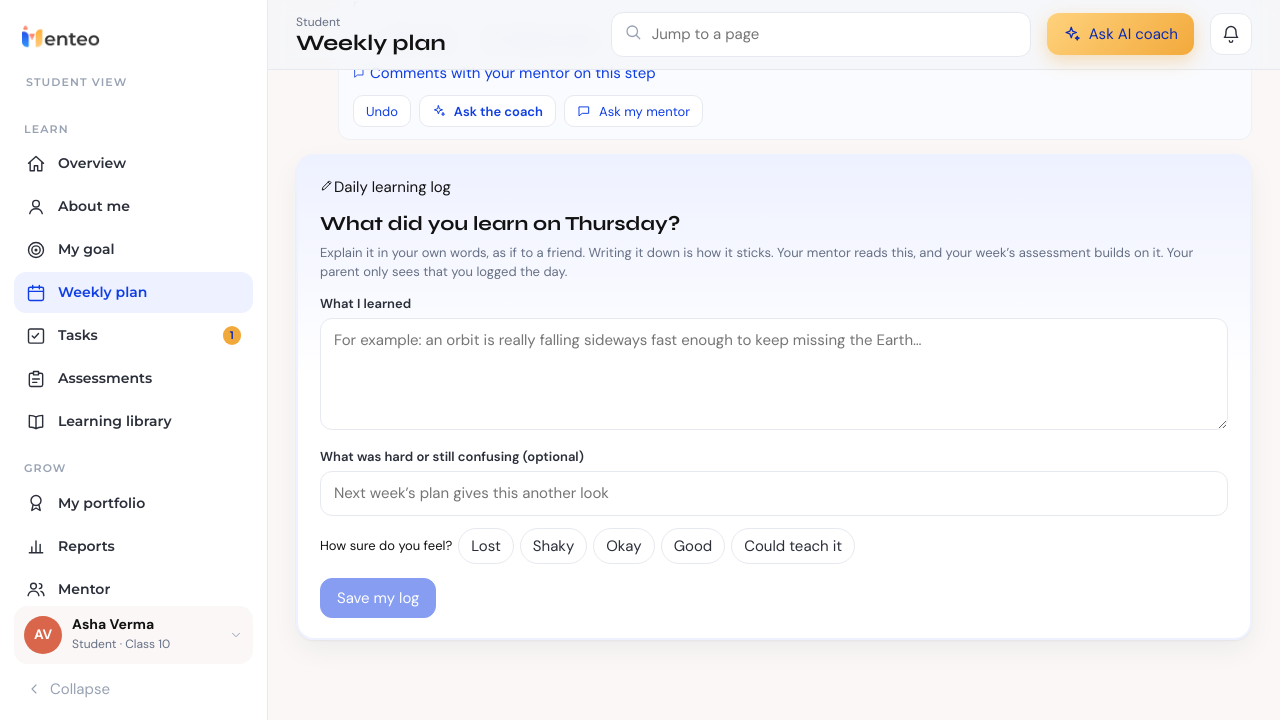
Test case: student: a day of the plan › logs what was learned that day; the day then shows it with an edit button
(page scrolled)
Type "Gravity pulls every mass towards every other mass." into the text box labelled "What I learned" at point(774, 374), box [320, 318, 1228, 430]
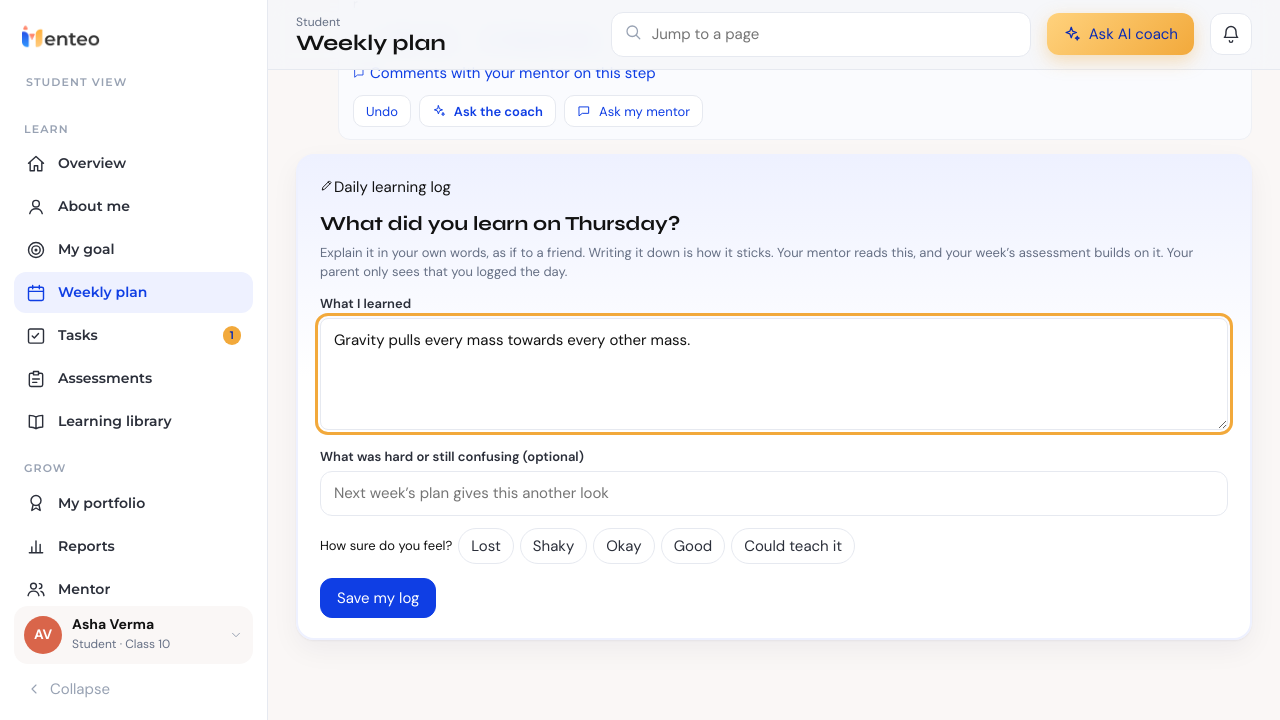
Type "The inverse square part" into the field labelled "What was hard or still confusing (optional)" at point(774, 494), box [320, 471, 1228, 516]
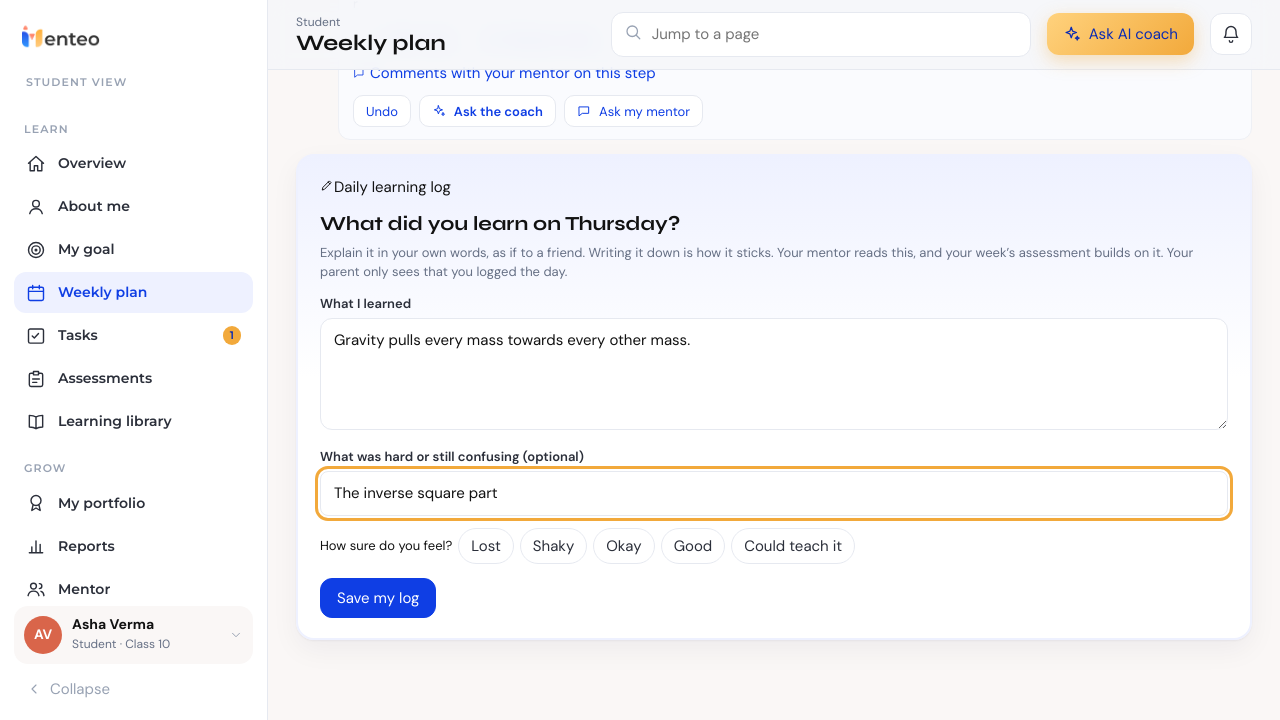
Click the button "Good" at point(693, 546), box [661, 528, 725, 564]
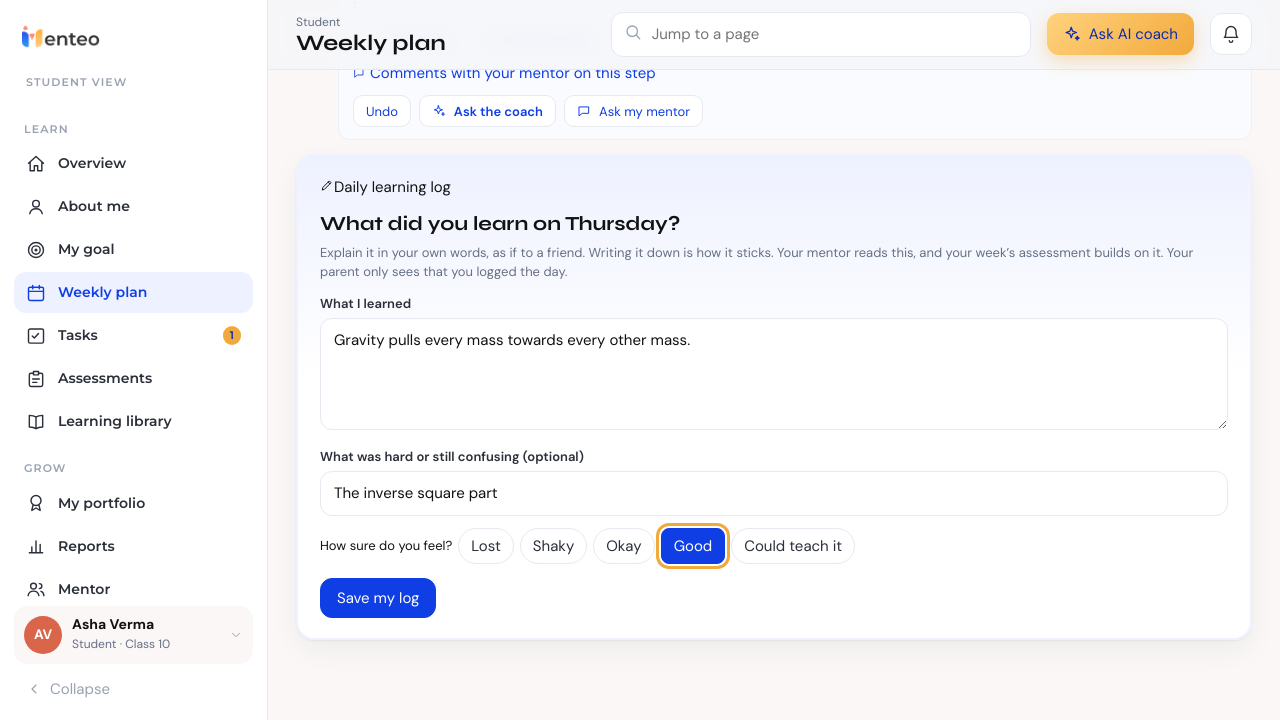
Click the button "Save my log" at point(378, 598), box [320, 578, 436, 618]
(page scrolled)
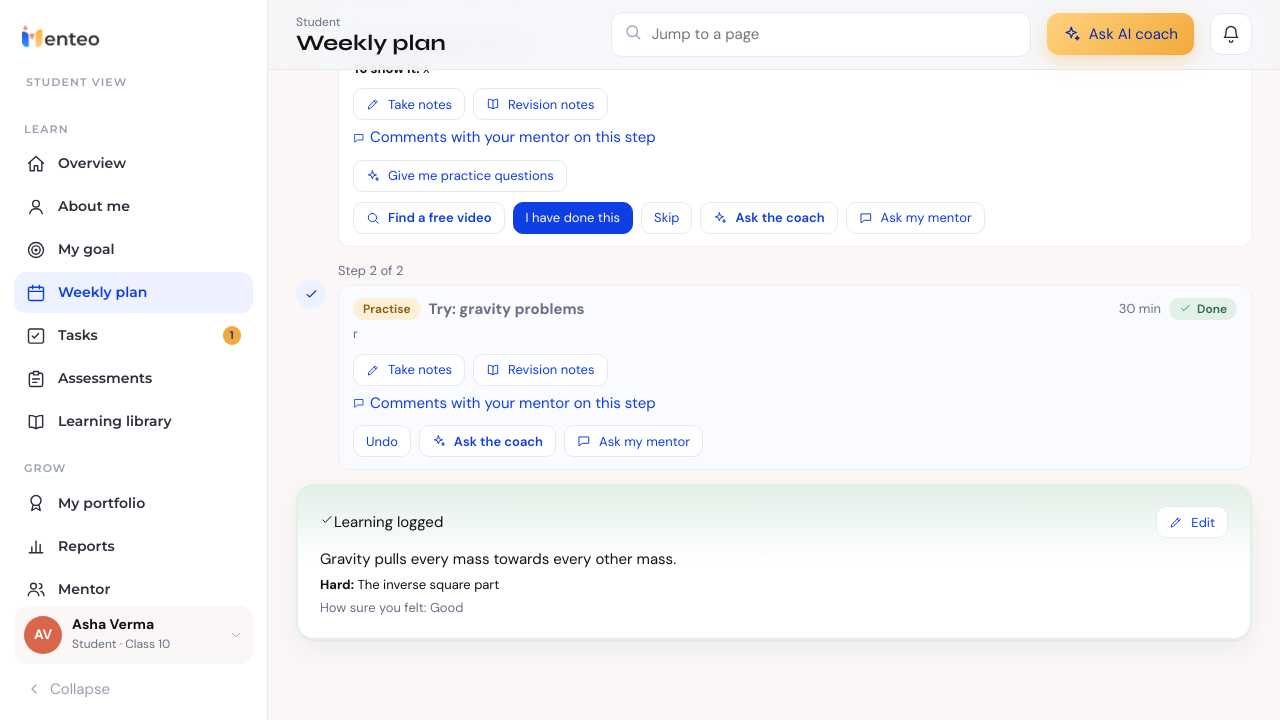
Check: the text "Learning logged" is shown, box [320, 511, 443, 534]
Check: the button "Edit" is shown, box [1156, 506, 1228, 538]
